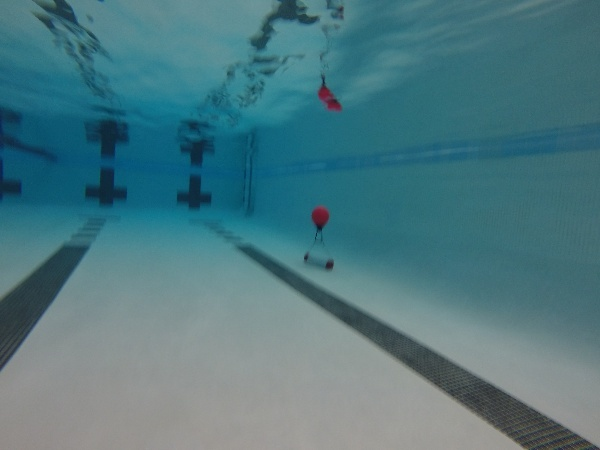buoy_red: (311, 205, 330, 233)
